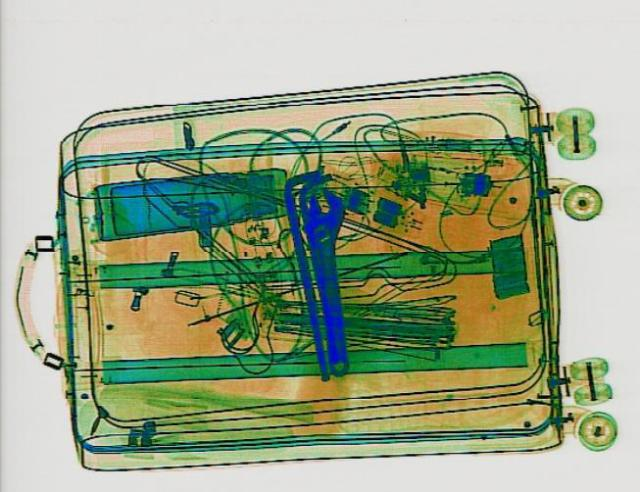Wrench: (294, 186, 366, 375)
